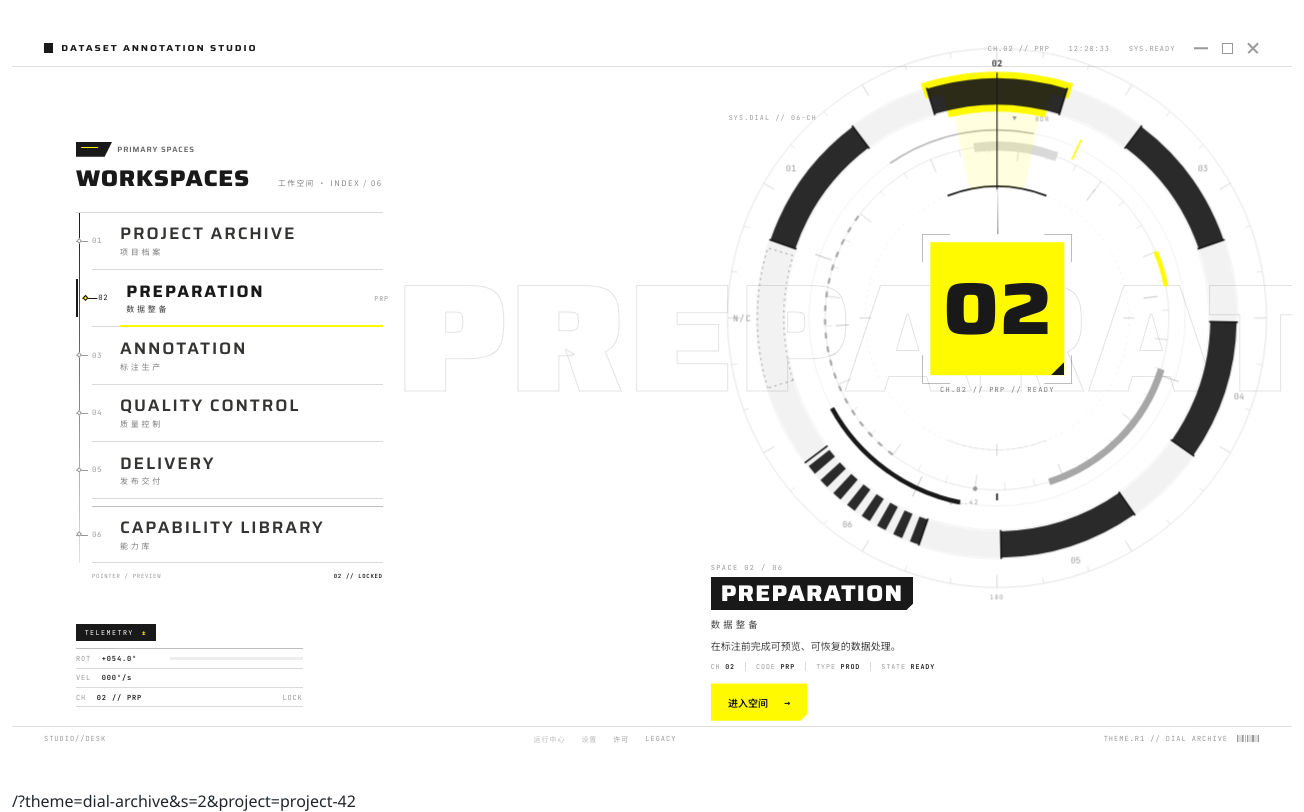
new frontend routes › preserves project context from home into a selected space
(page scrolled)
Click the button "进入空间 →" at [759, 702], box [711,683,807,721]
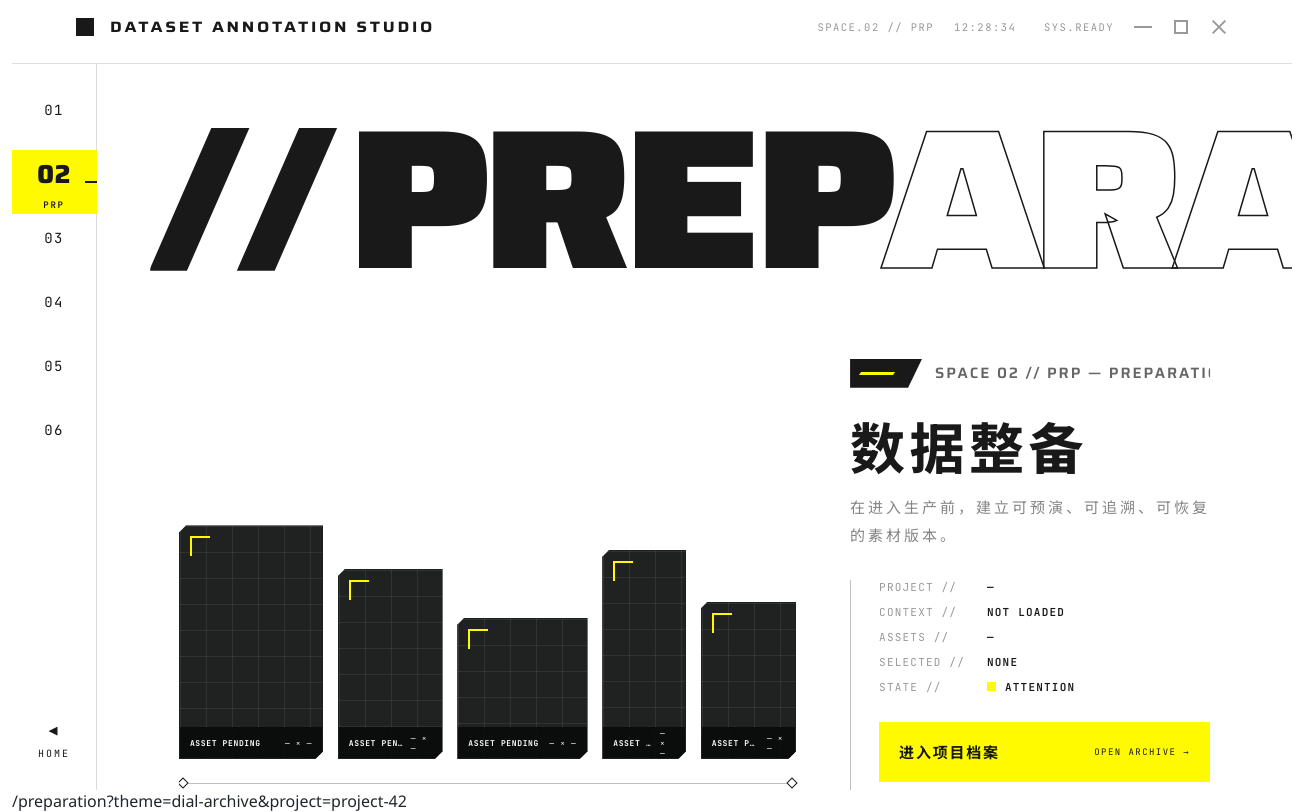
Result: the text named "current route" reads "/preparation?theme=dial-archive&project=project-42" at [12,790,407,811]
